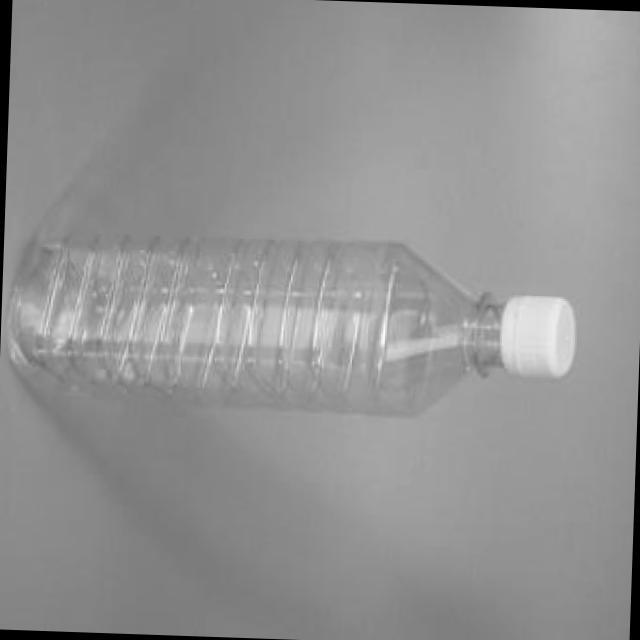good: (0, 188, 601, 465)
